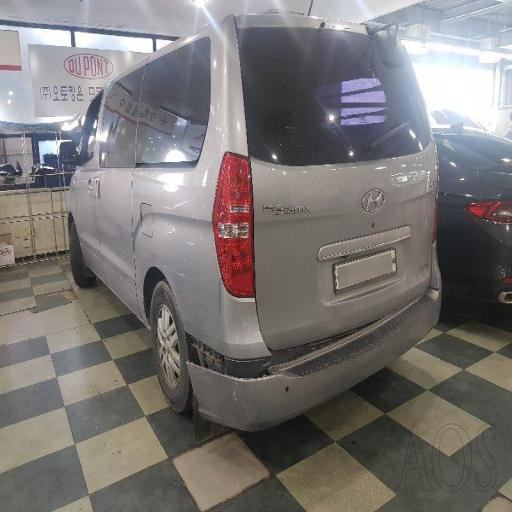broken: (159, 256, 308, 448)
